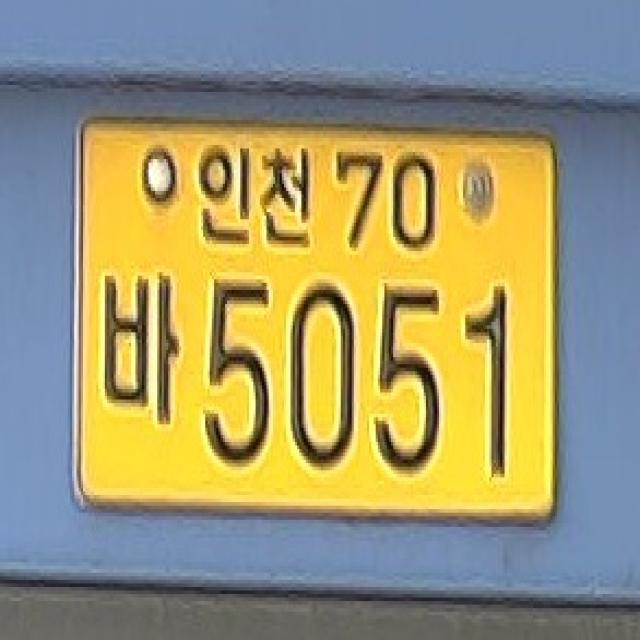plat: (75, 115, 559, 522)
